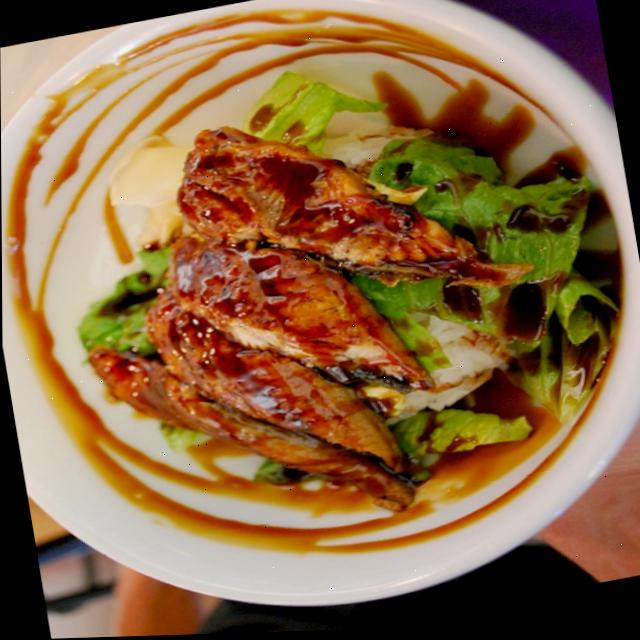熟制海鲜: (65, 104, 517, 525)
